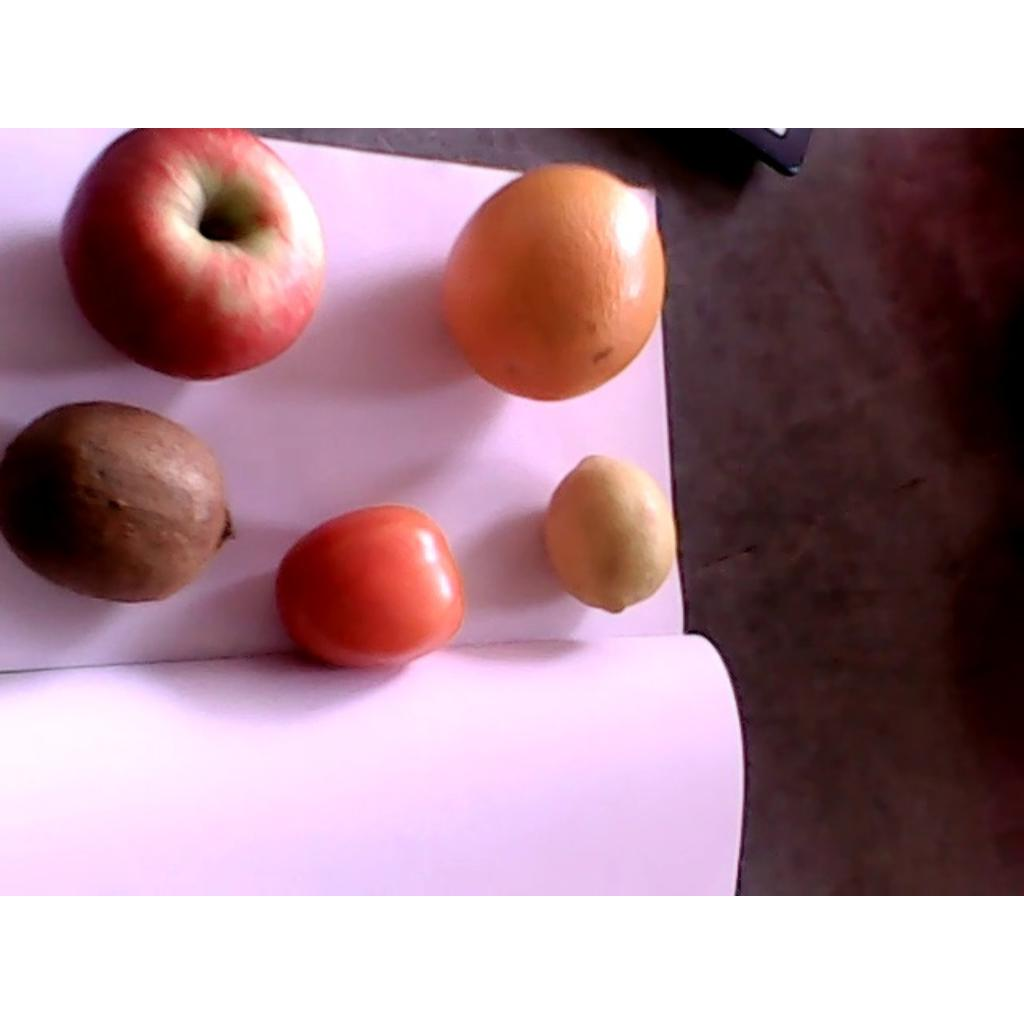apple: (59, 128, 324, 382)
kiwi: (0, 401, 237, 603)
lemon: (547, 453, 676, 614)
orange: (442, 161, 665, 400)
tomato: (273, 506, 465, 665)
